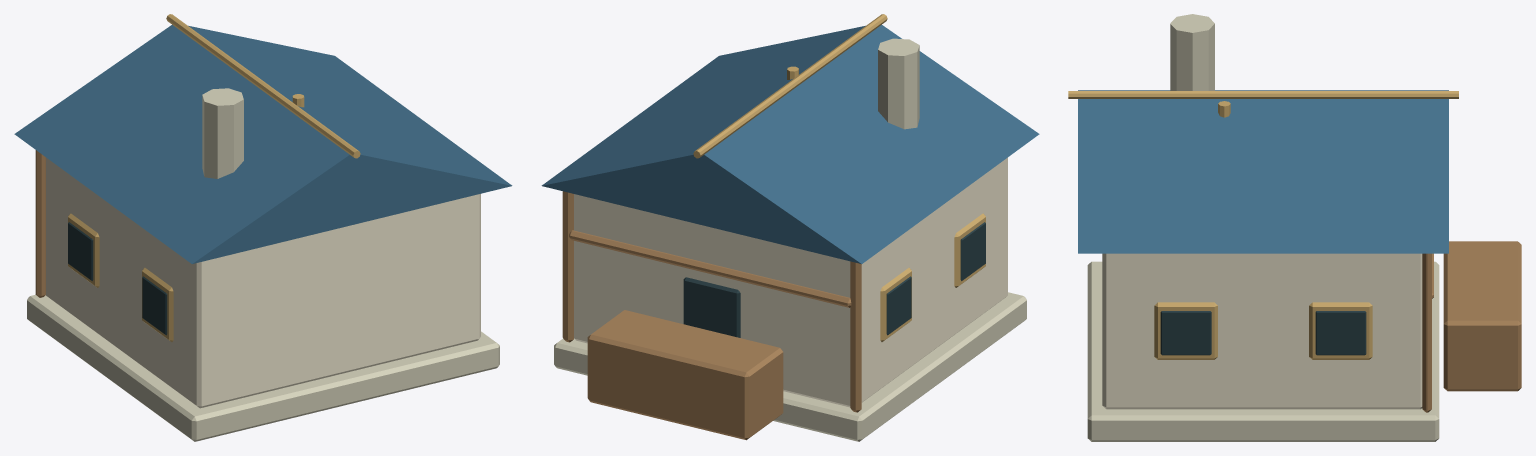
The model's file is level_05.glb.
3 renders of one model, left to right at view 1: azimuth 30°, elevation 25°; view 2: azimuth 150°, elevation 25°; view 3: azimuth 270°, elevation 25°, orthographic. The views are drawn at different scales.
Parts seen in each view (by area): view 1: workshop — level 05; view 2: workshop — level 05; view 3: workshop — level 05.
Part boxes in pixels (x1=…): workshop — level 05: x1=14, y1=14, x2=512, y2=441; workshop — level 05: x1=541, y1=14, x2=1039, y2=441; workshop — level 05: x1=1068, y1=14, x2=1521, y2=441.
Bounding box in the file's own units: 3.96 × 3.43 × 4.64.
